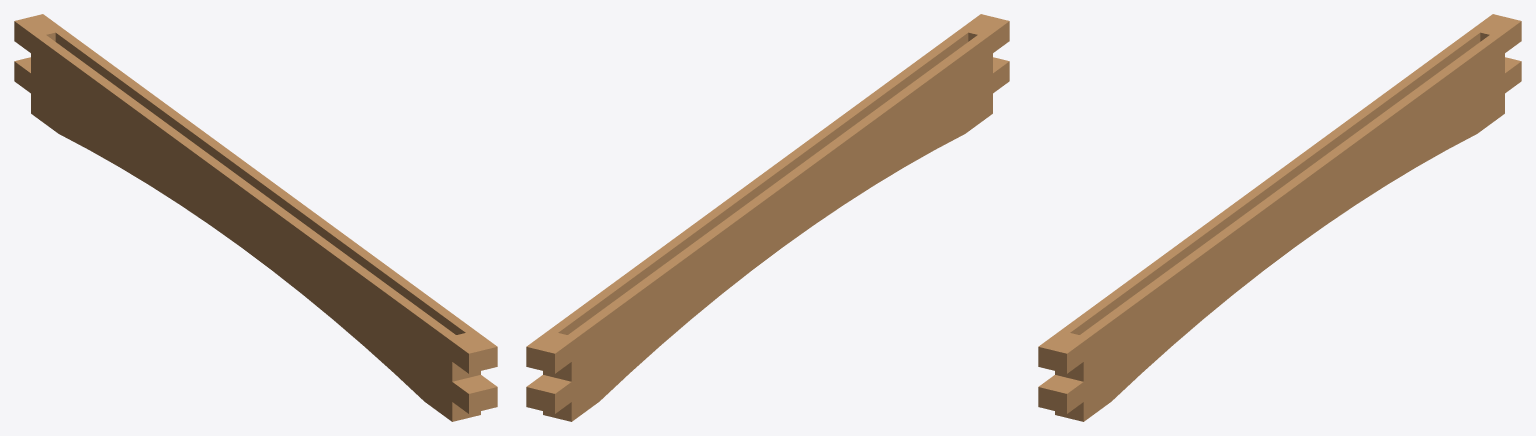
File: original-2.obj
The picture shows the model from 3 angles, left to right: view 1: azimuth 30°, elevation 25°; view 2: azimuth 150°, elevation 25°; view 3: azimuth 330°, elevation 25°; orthographic projection.
Parts seen in each view (by area): view 1: side_bottom1/side_bottom/mesh4/mesh4-geometry#mesh4-geometry; view 2: side_bottom1/side_bottom/mesh4/mesh4-geometry#mesh4-geometry; view 3: side_bottom1/side_bottom/mesh4/mesh4-geometry#mesh4-geometry.
Part boxes in pixels (bbox=[...]): side_bottom1/side_bottom/mesh4/mesh4-geometry#mesh4-geometry: bbox=[14, 14, 497, 421]; side_bottom1/side_bottom/mesh4/mesh4-geometry#mesh4-geometry: bbox=[526, 14, 1009, 421]; side_bottom1/side_bottom/mesh4/mesh4-geometry#mesh4-geometry: bbox=[1038, 14, 1521, 421].
Size of the model in its own units: 0.0328 by 0.0874 by 0.8958.
